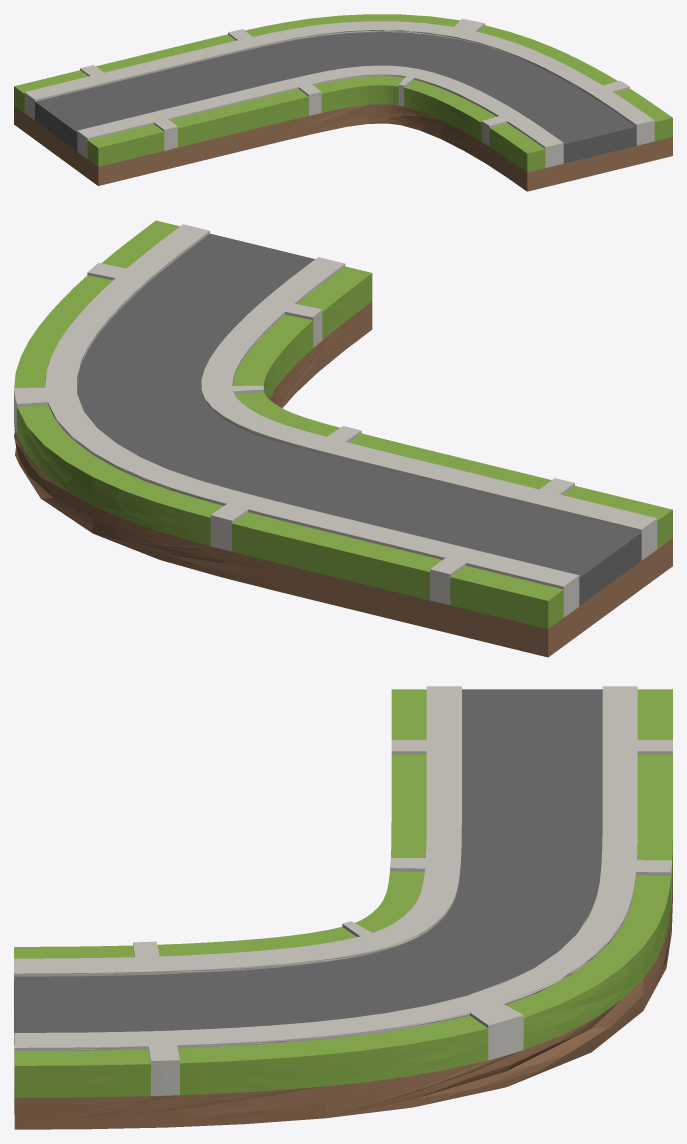
Rendered from road-turn.obj.
The picture shows the model from 3 angles, top to bottom: view 1: azimuth 30°, elevation 25°; view 2: azimuth 150°, elevation 25°; view 3: azimuth 270°, elevation 25°; orthographic projection. The views are drawn at different scales.
Parts seen in each view (by area): view 1: road-straight-house-2-low_Cube.002; view 2: road-straight-house-2-low_Cube.002; view 3: road-straight-house-2-low_Cube.002.
Boxes of the visible parts, bbox=[...] form: road-straight-house-2-low_Cube.002: bbox=[14, 14, 672, 191]; road-straight-house-2-low_Cube.002: bbox=[14, 220, 672, 657]; road-straight-house-2-low_Cube.002: bbox=[14, 686, 672, 1129].
Size of the model in its own units: 25.32 by 2.1 by 18.73.
